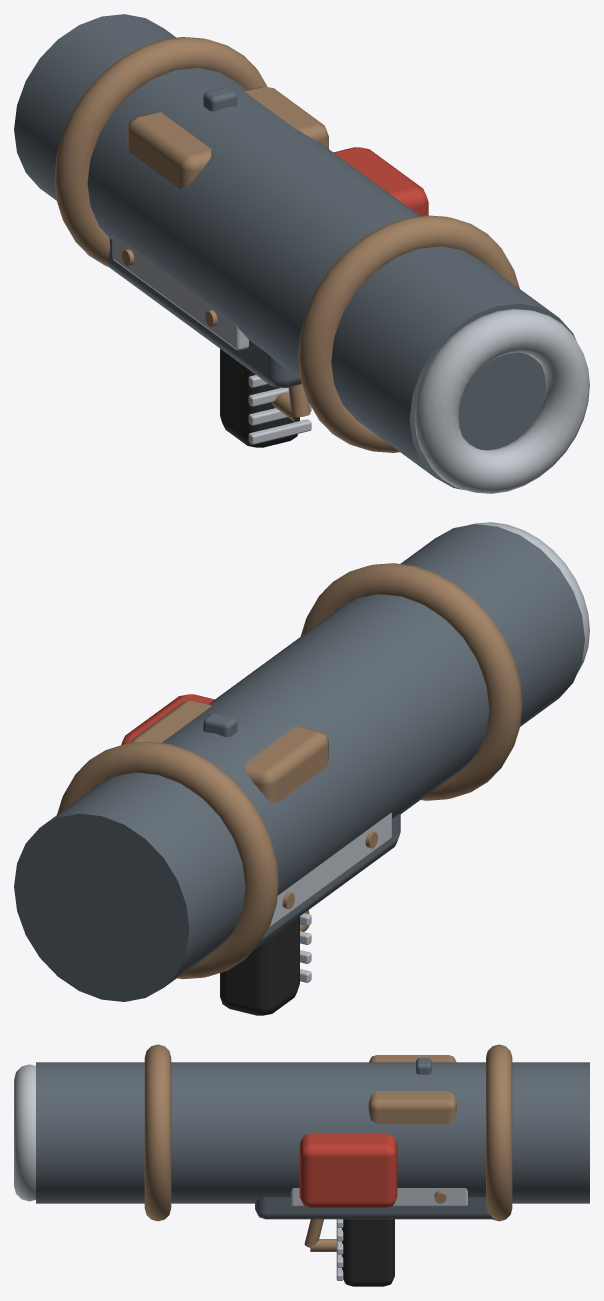
Rendered from arena-shooter-map-kit-rocket-launcher-pickup-53403a34__23139.glb.
The picture shows the model from 3 angles, top to bottom: view 1: azimuth 30°, elevation 25°; view 2: azimuth 150°, elevation 25°; view 3: azimuth 270°, elevation 25°; orthographic projection. The views are drawn at different scales.
Visible parts, largest first — view 1: rocket-launcher-pickup; view 2: rocket-launcher-pickup; view 3: rocket-launcher-pickup.
Part boxes in pixels (box(x1,y1,x2,y2)): rocket-launcher-pickup: box(14, 14, 589, 493); rocket-launcher-pickup: box(14, 522, 589, 1015); rocket-launcher-pickup: box(14, 1044, 589, 1286).
Bounding box in the file's own units: 0.43 × 0.57 × 1.3.
